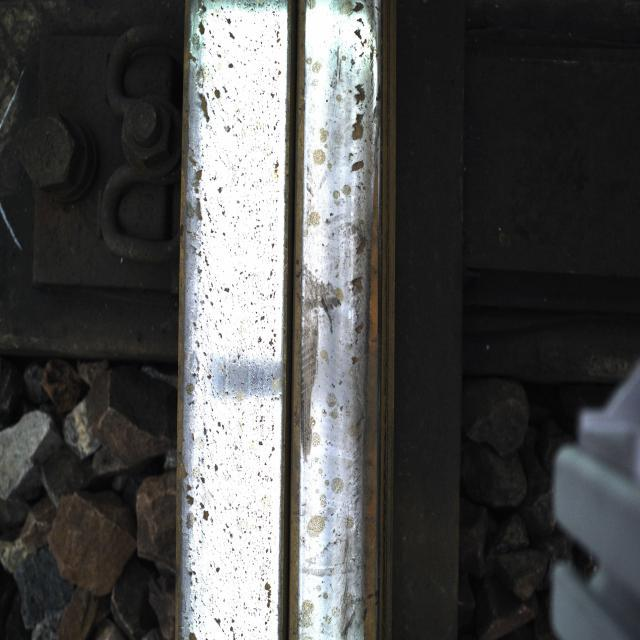scar: (188, 30, 284, 611), (300, 28, 364, 578)
